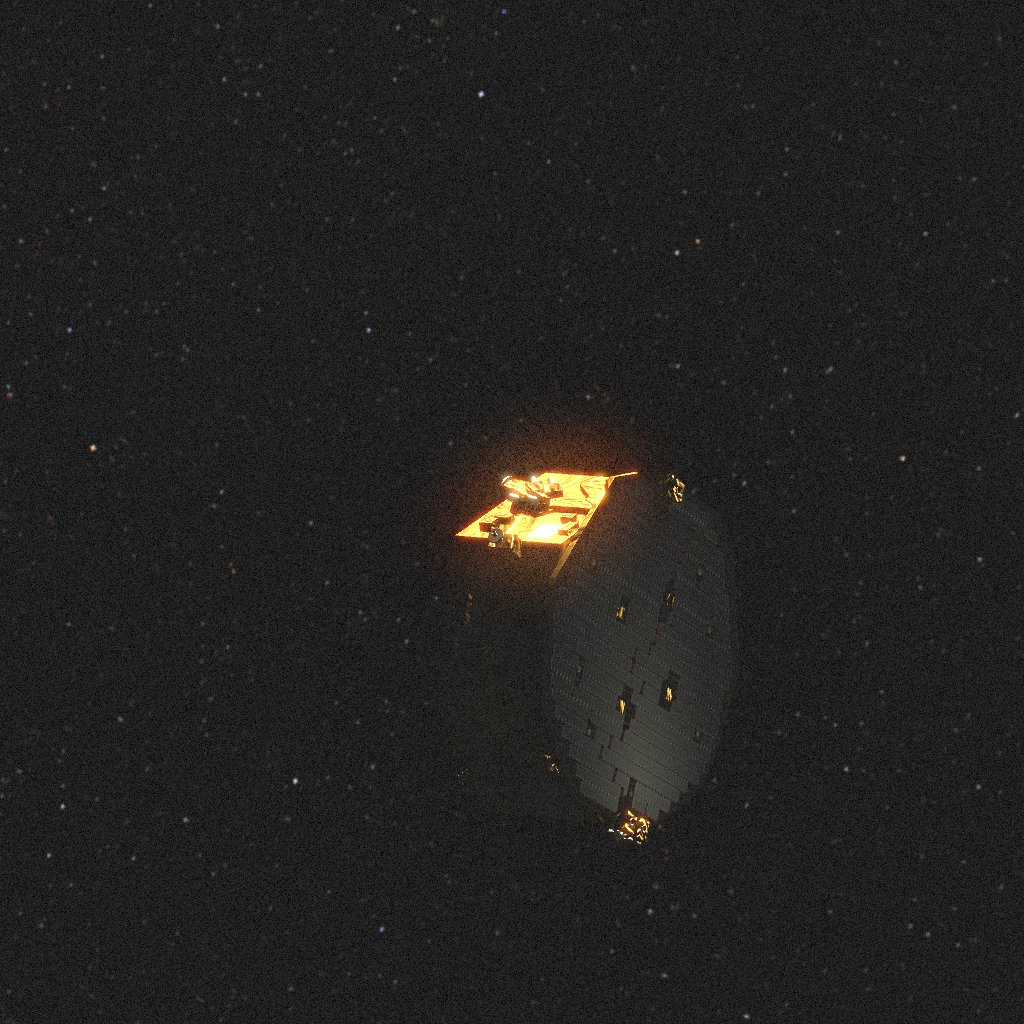lisa_pathfinder: (422, 455, 728, 815)
